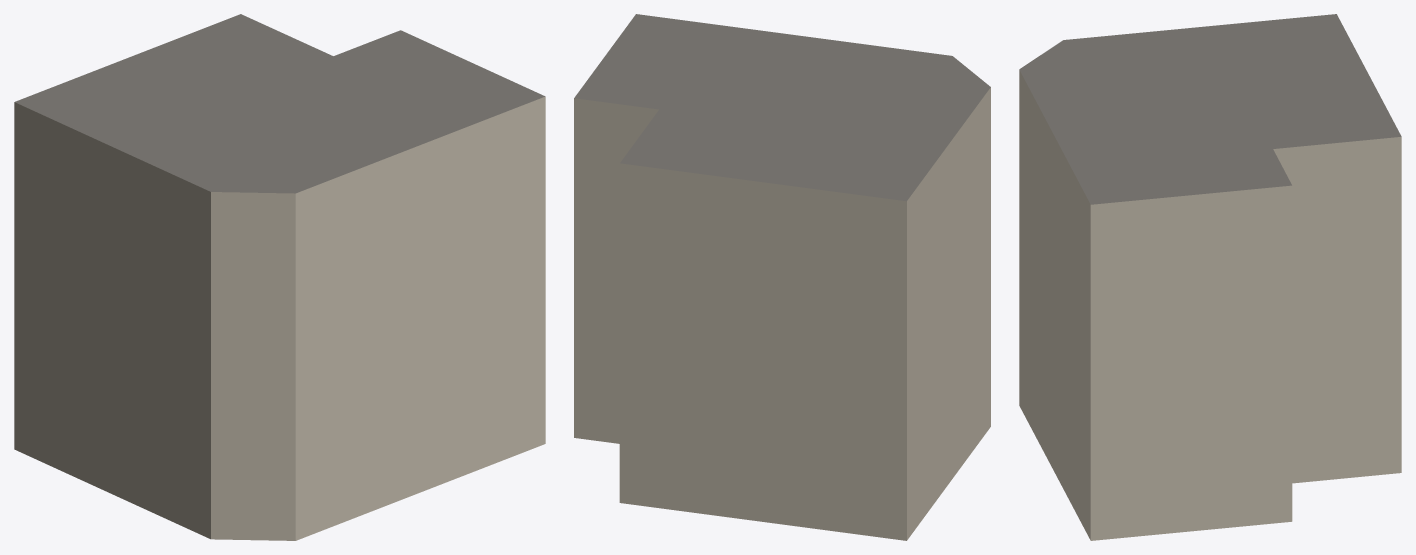
3 views of the same model, side by side, from view 1: azimuth 30°, elevation 25°; view 2: azimuth 150°, elevation 25°; view 3: azimuth 270°, elevation 25° (orthographic). The views are drawn at different scales.
Visible parts, largest first — view 1: HP-w300054532; view 2: HP-w300054532; view 3: HP-w300054532.
Part boxes in pixels (left/top/right/bottom): HP-w300054532: left=14, top=14, right=545, bottom=540; HP-w300054532: left=574, top=14, right=990, bottom=540; HP-w300054532: left=1019, top=14, right=1401, bottom=540.
Size of the model in its own units: 18.26 by 15 by 15.47.
